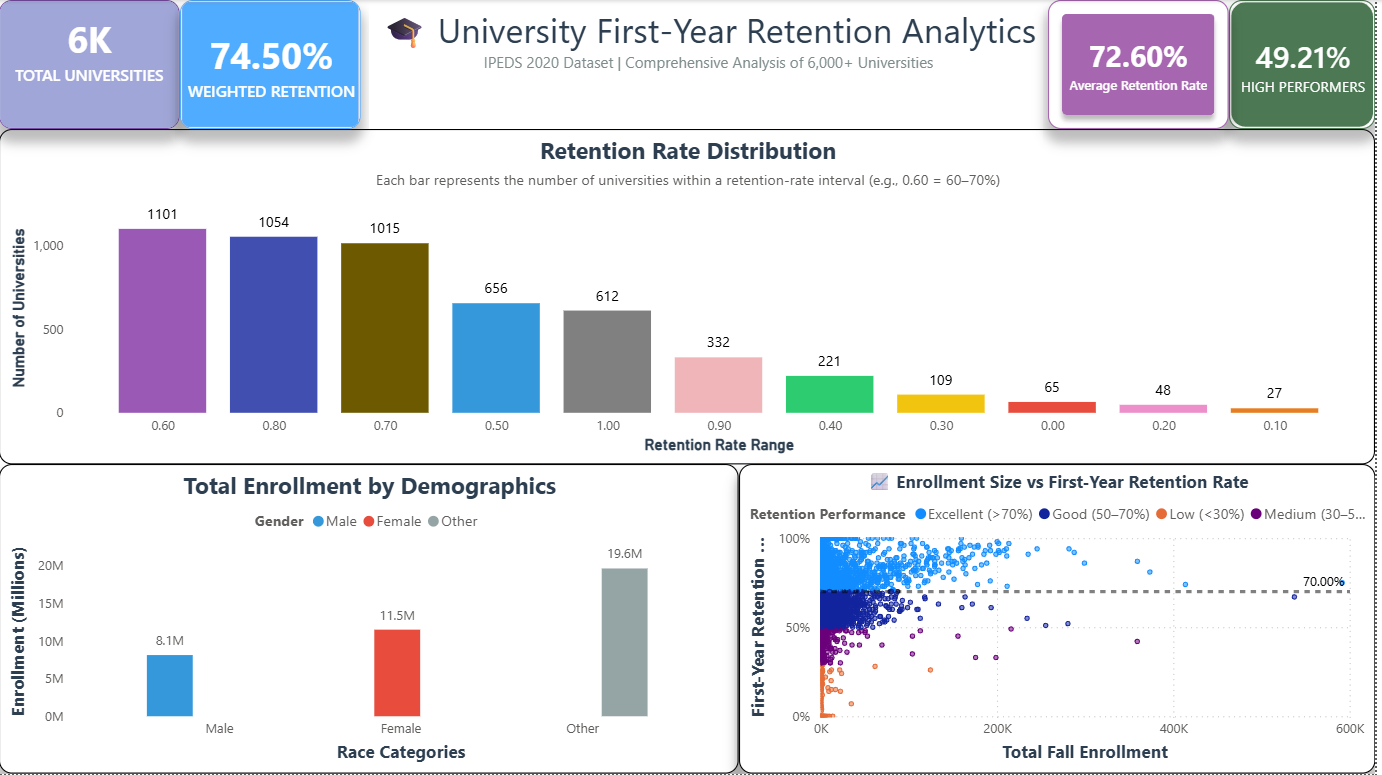

This screenshot's page, from the dashboard's own definition file:
{"tool":"powerbi","page":{"name":"Page 1","canvas":[1280,720],"ordinal":0},"visuals":[{"type":"clusteredColumnChart","title":"Total Enrollment by Demographics","fields":{"Category":["vw_enrollment_by_demo.Sex Label"],"Y":["Sum(vw_enrollment_by_demo.enrollment_fall)"],"Series":["vw_enrollment_by_demo.Sex Label"]},"box":[0,432,688,288],"z":0},{"type":"clusteredColumnChart","title":"Retention Rate Distribution","fields":{"Category":["vw_enrollment_retention_summary.retention_rate (bins)"],"Y":["CountNonNull(vw_enrollment_retention_summary.unitid)"]},"box":[0,120,1280,312],"z":1000},{"type":"scatterChart","title":"📈 Enrollment Size vs First-Year Retention Rate","fields":{"X":["vw_enrollment_retention_summary.total_enrollment"],"Y":["vw_enrollment_retention_summary.retention_rate"],"Series":["vw_enrollment_retention_summary.Retention Performance"],"Size":["vw_enrollment_retention_summary.Dot size"]},"box":[688,432,592,288],"z":2000},{"type":"cardVisual","title":"Total Universities","fields":{"Data":["vw_enrollment_by_demo.Total Universities"]},"box":[0,0,168,120],"z":4000},{"type":"cardVisual","title":"Enrollment-Weighted First-Year Retention Rate","fields":{"Data":["vw_enrollment_retention_summary.Enrollment Weighted Retention"]},"box":[168,0,168,120],"z":5000},{"type":"cardVisual","fields":{"Data":["vw_enrollment_by_demo.High Retention University %"]},"box":[1144,0,136,120],"z":6000},{"type":"textbox","box":[344,0,632,120],"z":6001},{"type":"cardVisual","fields":{"Data":["Avg(vw_enrollment_retention_summary.retention_rate)"]},"box":[976,0,168,120],"z":6002}]}

Visuals, with their boxes in screenshot pixels (x1, y1, x2, y2), scaled from the page's 1280x720 canvas onto the 1382x775 screenshot:
"Total Enrollment by Demographics" clusteredColumnChart: <region>0, 465, 743, 774</region>
"Retention Rate Distribution" clusteredColumnChart: <region>0, 129, 1381, 465</region>
"📈 Enrollment Size vs First-Year Retention Rate" scatterChart: <region>743, 465, 1381, 774</region>
"Total Universities" cardVisual: <region>0, 0, 181, 129</region>
"Enrollment-Weighted First-Year Retention Rate" cardVisual: <region>181, 0, 363, 129</region>
cardVisual - vw_enrollment_by_demo.High Retention University %: <region>1235, 0, 1381, 129</region>
textbox: <region>371, 0, 1054, 129</region>
cardVisual - Avg(vw_enrollment_retention_summary.retention_rate): <region>1054, 0, 1235, 129</region>
